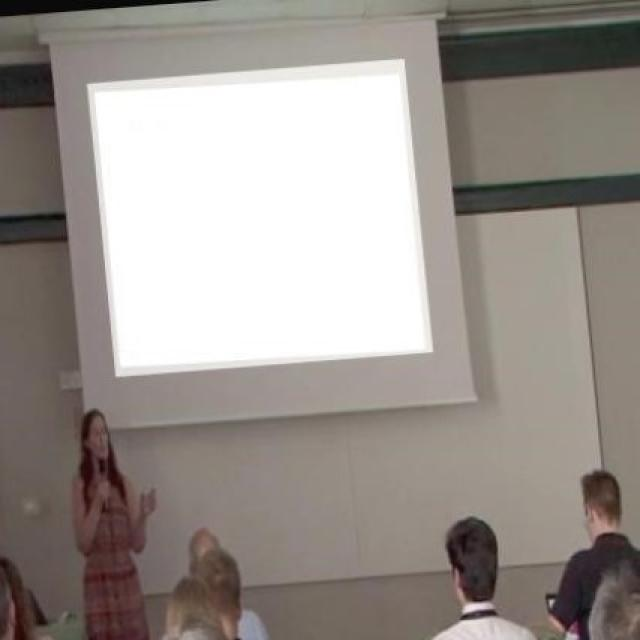Instructor: (59, 395, 143, 637)
Slide: (87, 62, 428, 375)
White-board: (76, 207, 616, 600)
